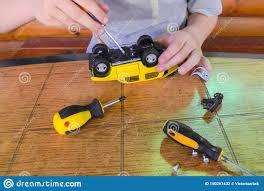screwdriver: (51, 92, 128, 136)
